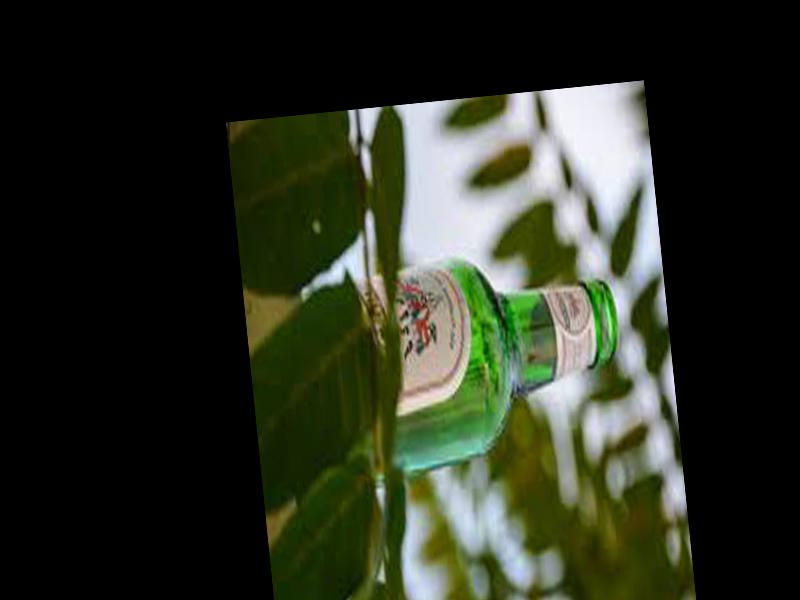Beer: (349, 246, 629, 473)
